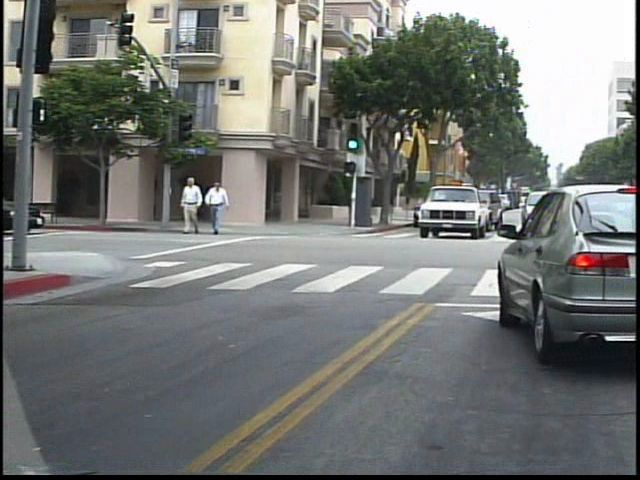person: (212, 174, 240, 239), (185, 175, 211, 241)
